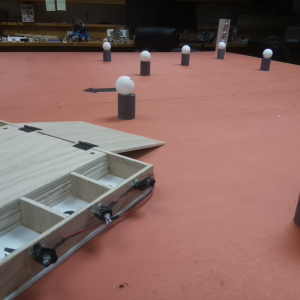corner: (217, 18, 232, 50), (83, 84, 126, 95)
obstacle: (115, 75, 138, 120), (138, 49, 153, 78), (259, 48, 273, 72), (180, 43, 192, 66), (102, 40, 115, 60), (216, 42, 228, 59)
side: (1, 165, 166, 299)
slope: (14, 116, 173, 153)
